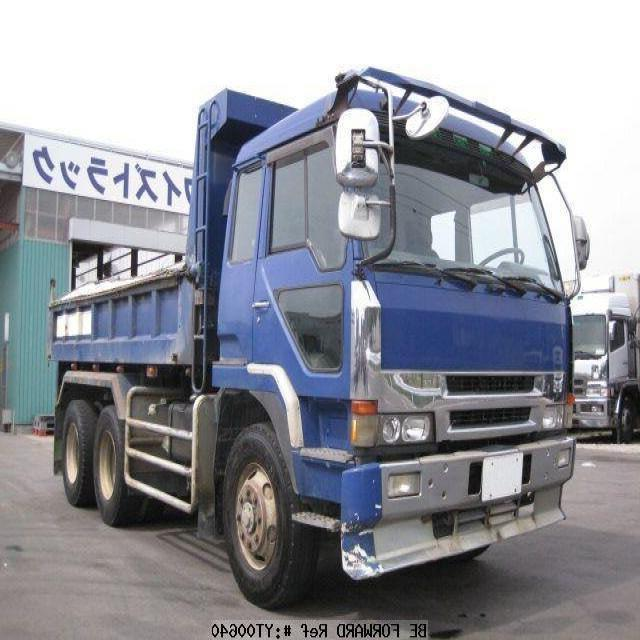truck: (46, 61, 588, 607)
